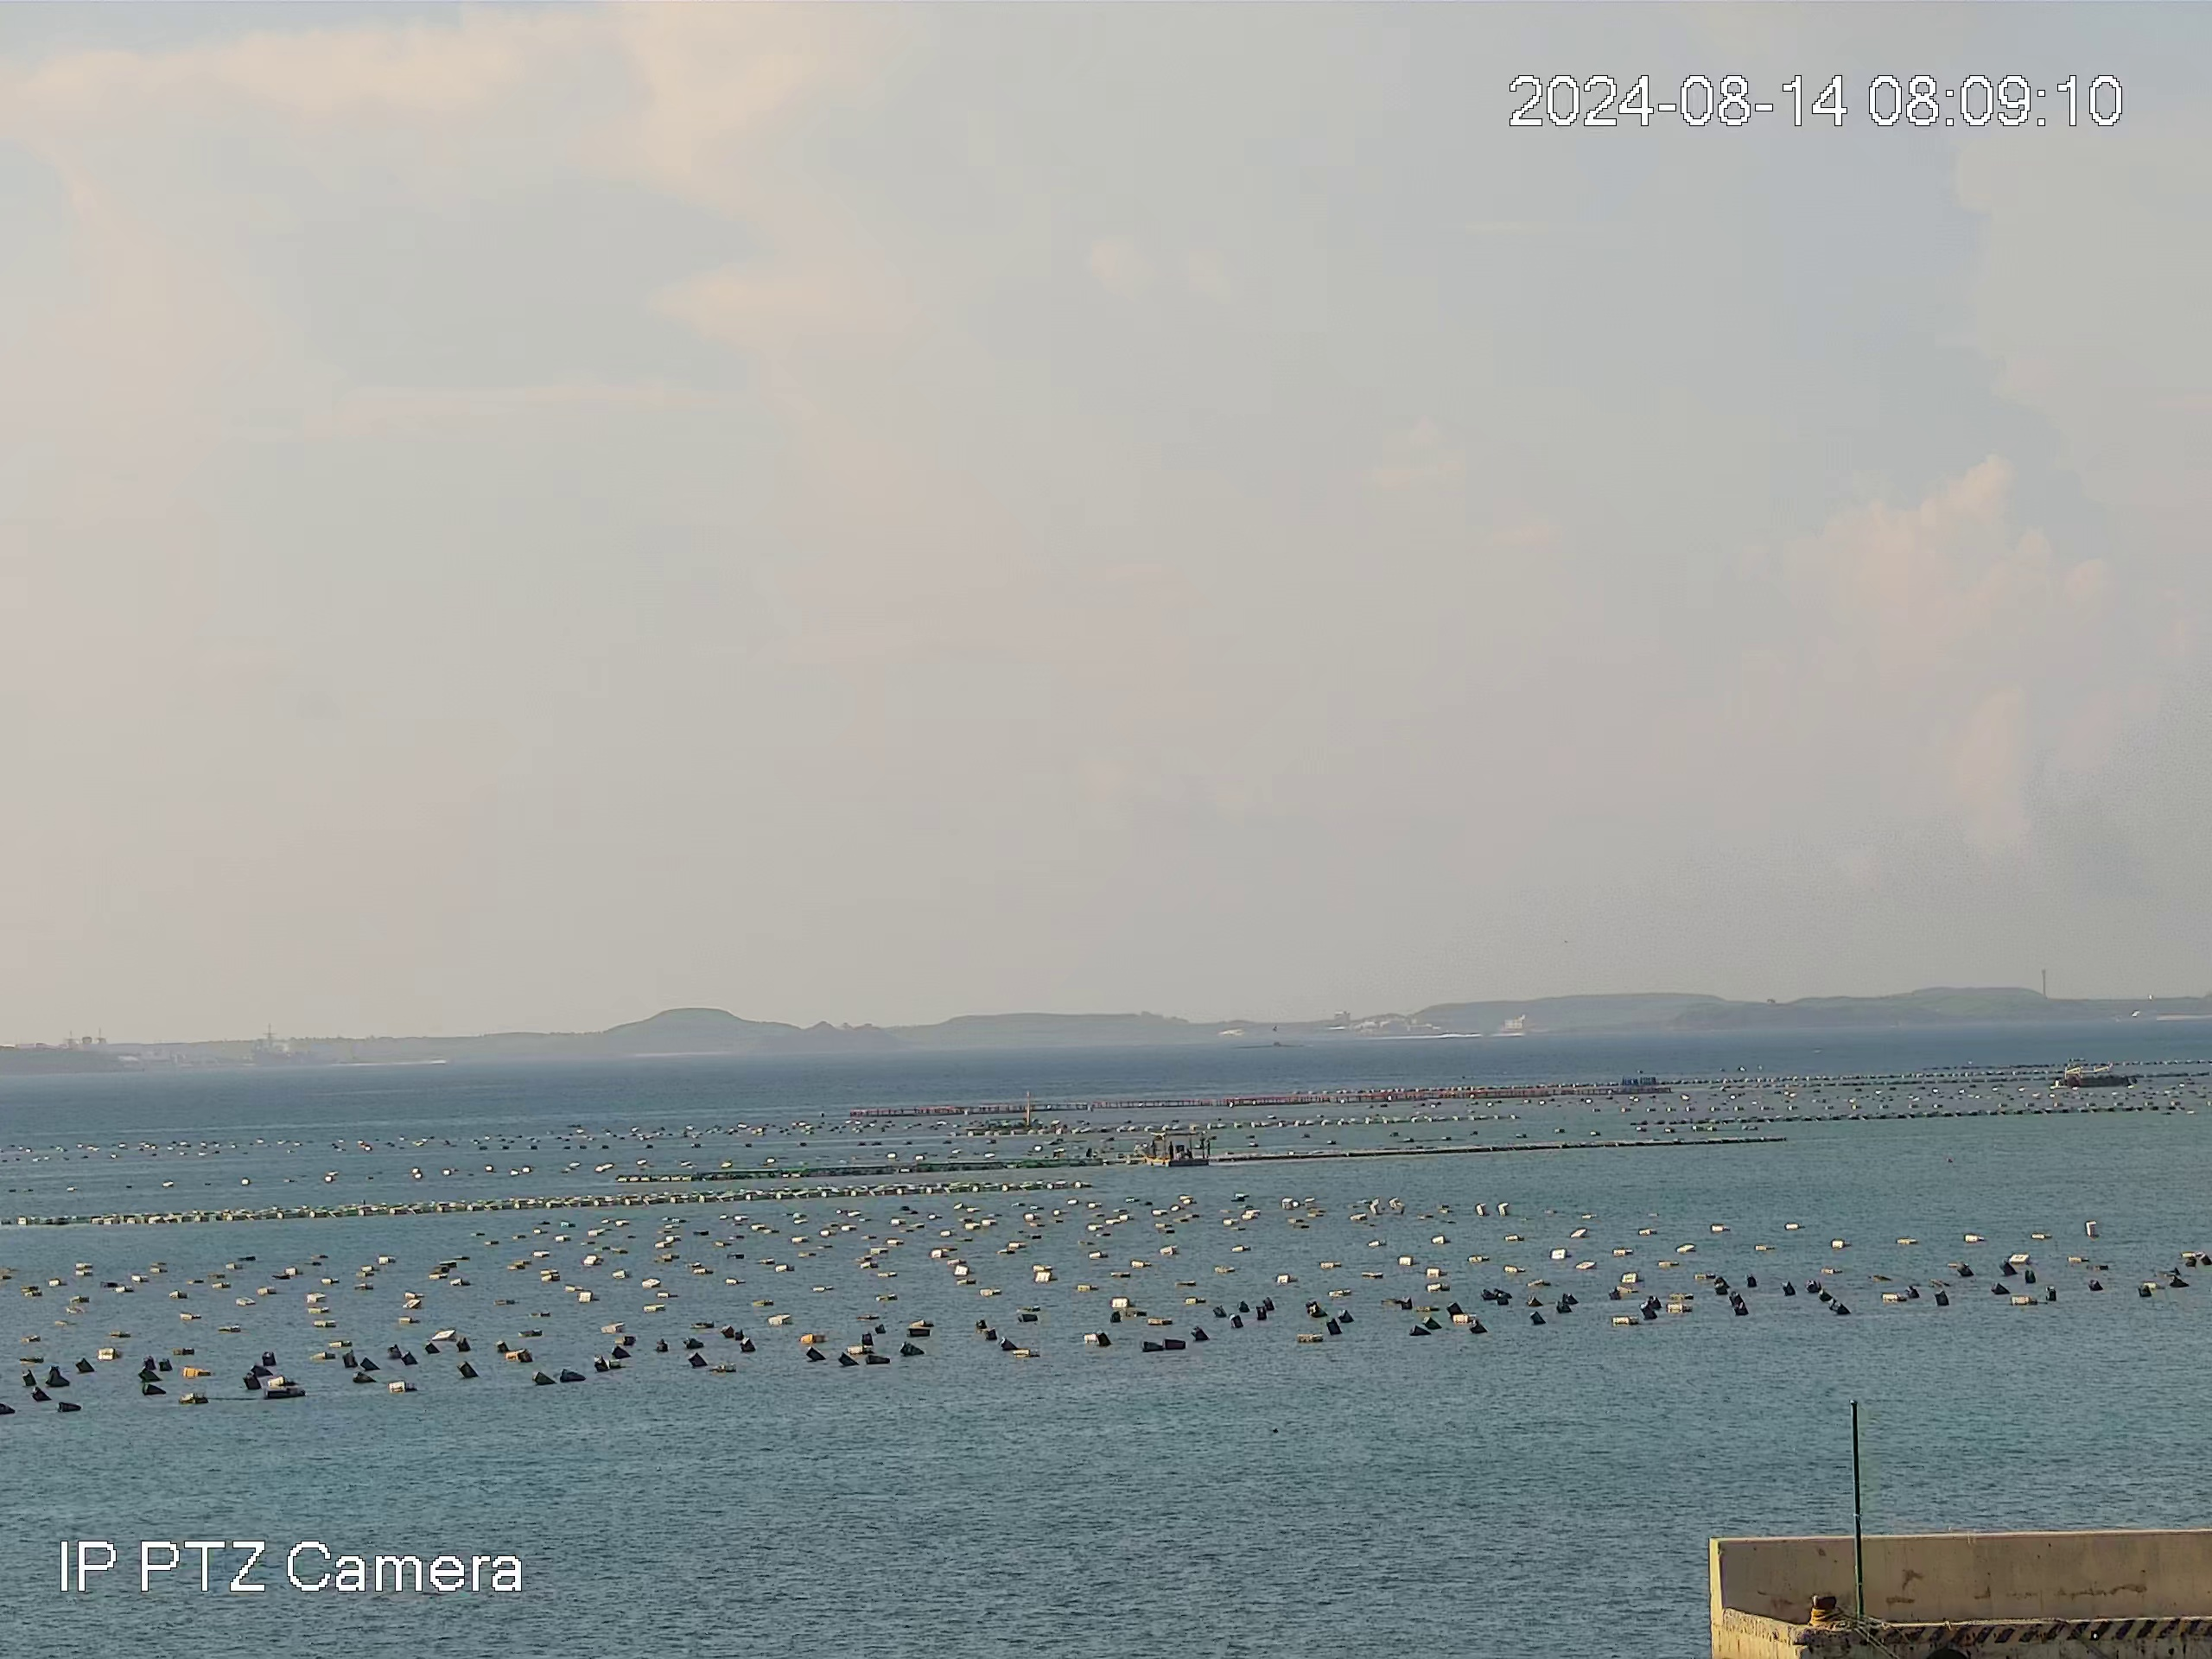boat: (1143, 1128, 1211, 1165), (2052, 1067, 2135, 1091)
